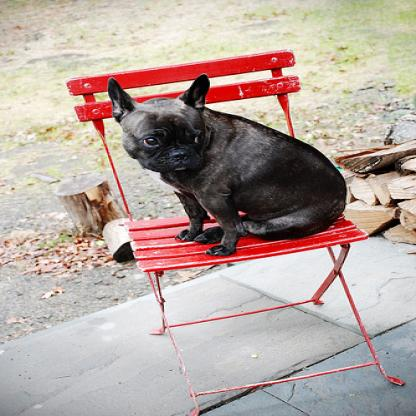French_bulldog: (104, 72, 348, 256)
